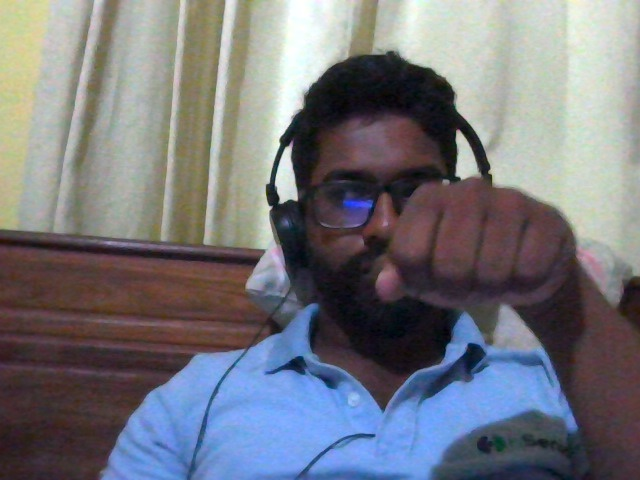Yes: (337, 137, 618, 361)
